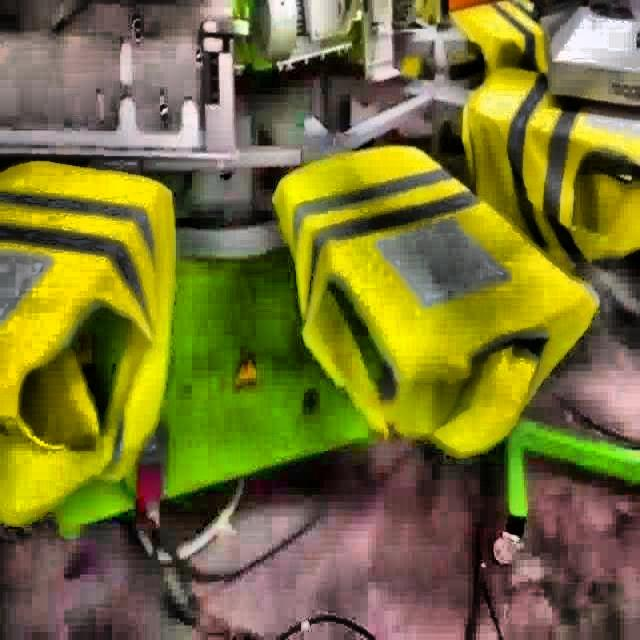safety_jacket: (272, 143, 600, 461), (0, 160, 178, 534), (464, 66, 638, 276), (453, 0, 546, 78)
